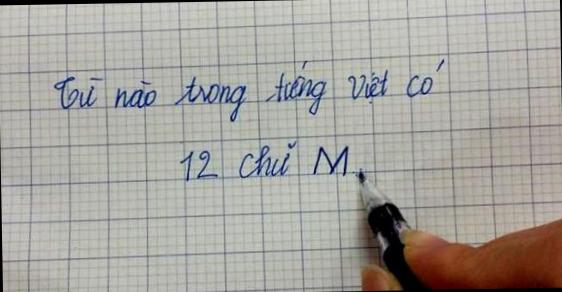text: (50, 55, 447, 127), (177, 137, 350, 183)
